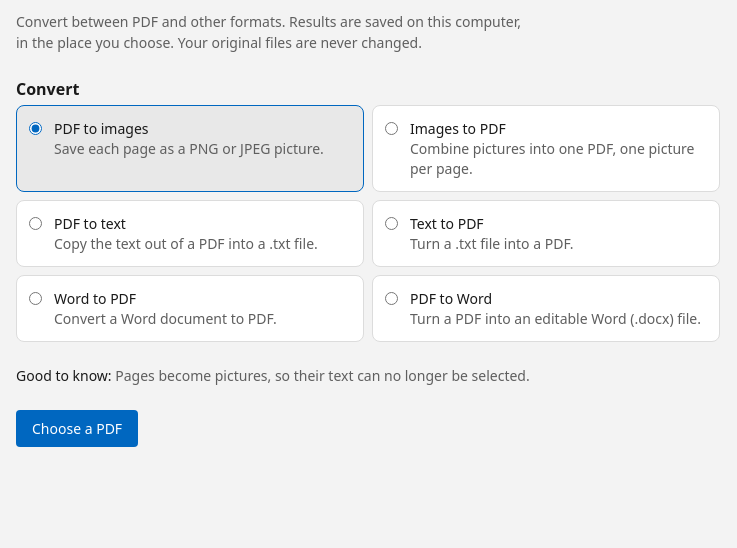
Test: Convert page › mentions LibreOffice for the closest layout when it is found
Click the radio button labelled "Word to PDF Convert a Word document to PDF." at [36, 298], box left=29, top=292, right=42, bottom=305
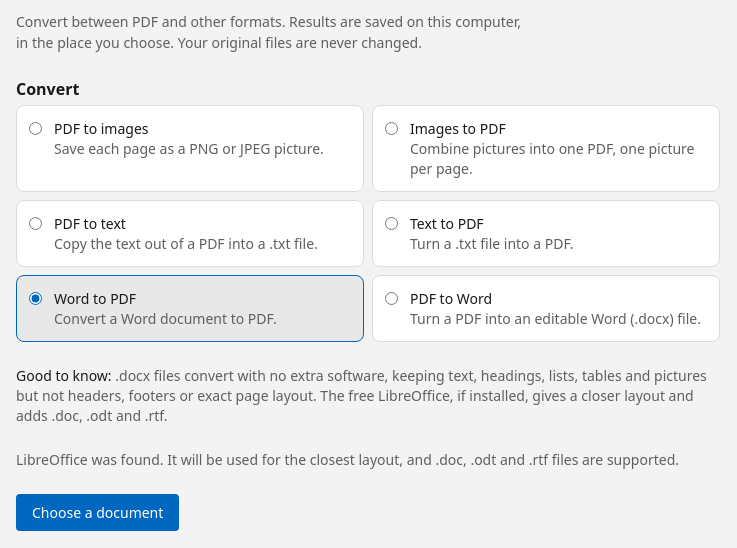
Result: the text "LibreOffice was found" is shown at left=16, top=450, right=679, bottom=469
